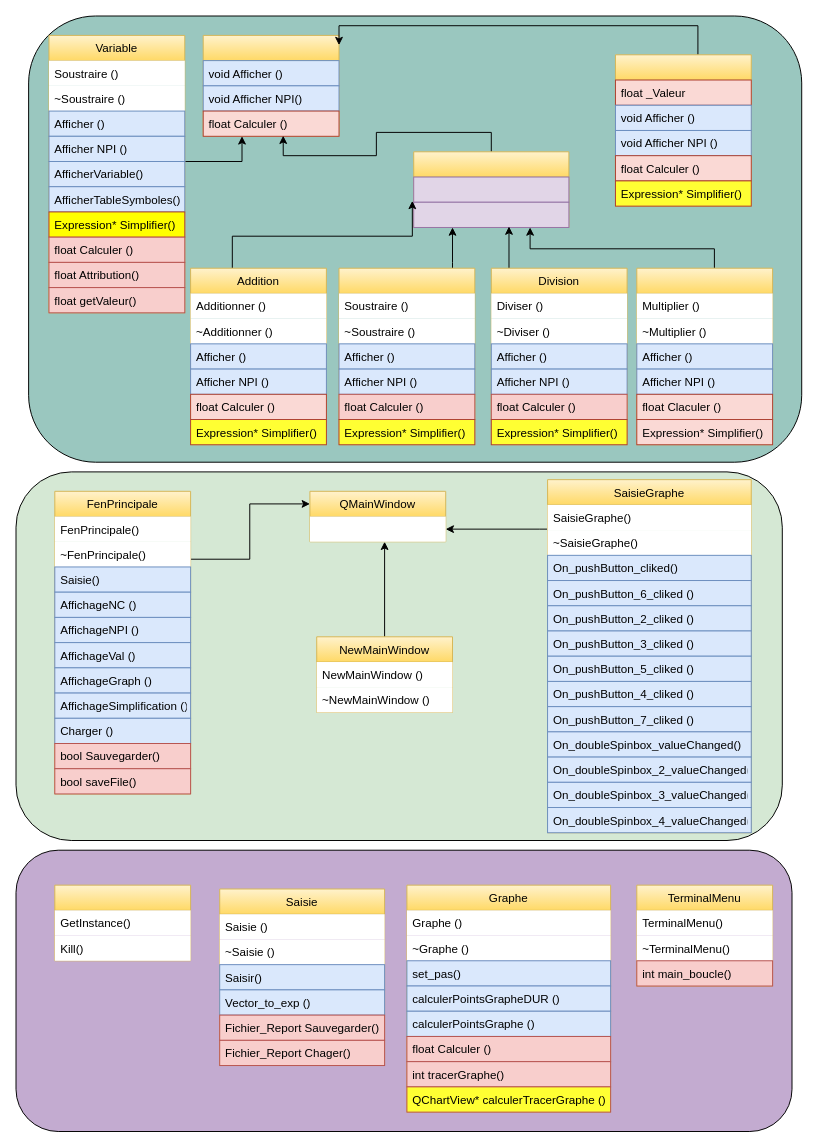
This 818x1148 diagram has some shape labels left out. Each missing label, with the box of its shape:
Constante: (614, 54, 751, 206)
EXP *_OperandeDroite: (413, 201, 569, 227)
EXP *_OperandeGauche: (413, 176, 569, 202)
Expression: (202, 34, 339, 136)
Multiplication: (636, 267, 773, 445)
Operateur: (413, 151, 569, 227)
QMainWindow (): (309, 516, 445, 541)
Singleton: (54, 884, 191, 961)
Soustraction: (338, 267, 475, 445)
